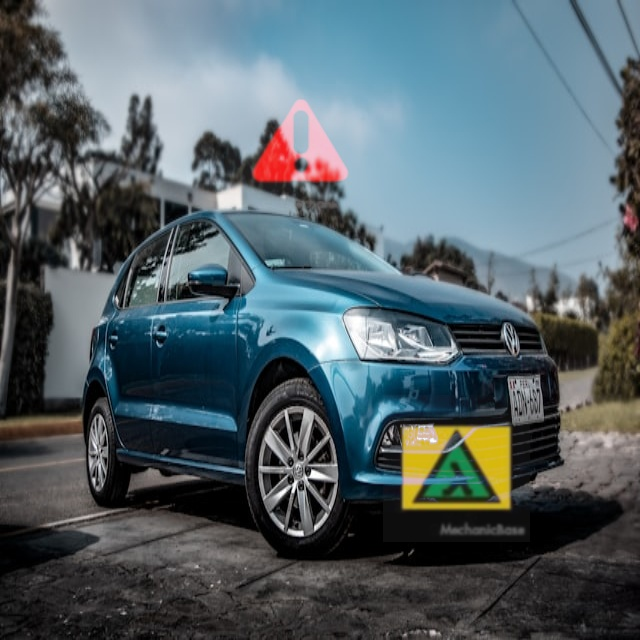symbol: (225, 65, 376, 216), (383, 395, 530, 542)
